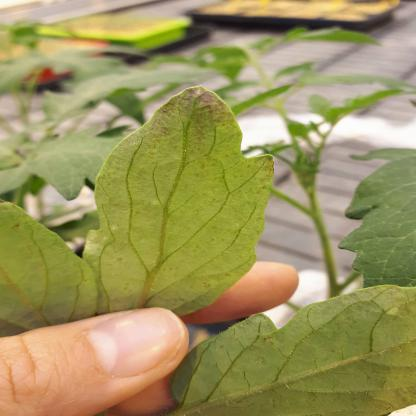tomato mold leaf: (75, 78, 283, 336)
